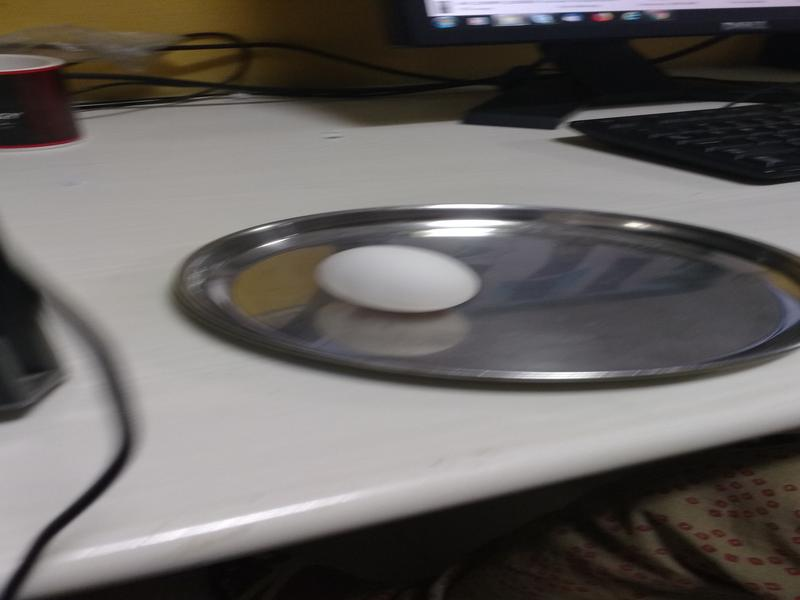egg: (311, 242, 481, 314)
